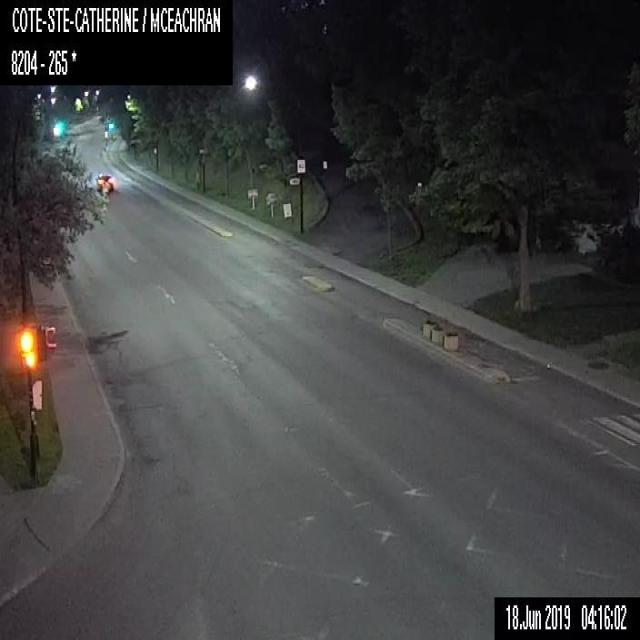vehicle: (95, 172, 113, 191)
